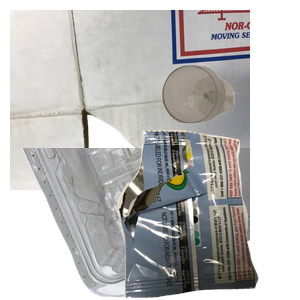cardboard: (10, 10, 250, 190)
glass: (159, 63, 300, 179)
plastic: (19, 148, 259, 300)
trash: (114, 130, 300, 300)
